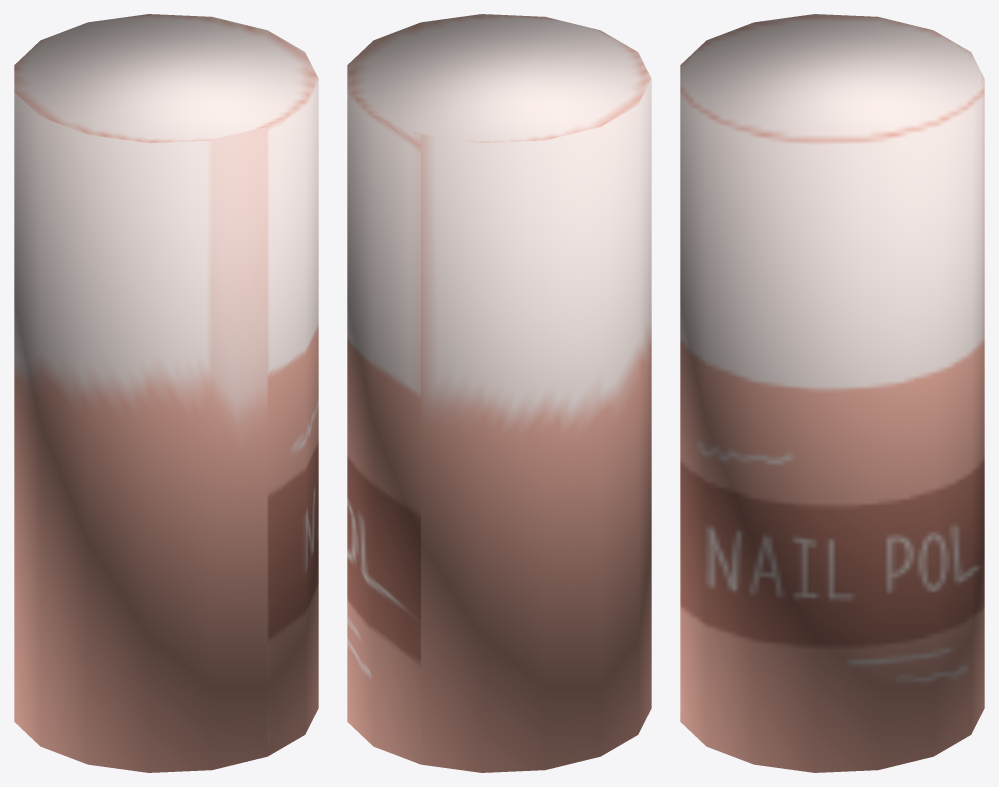
The model's file is nail_pol_green.glb.
3 views of the same model, side by side, from view 1: azimuth 30°, elevation 25°; view 2: azimuth 150°, elevation 25°; view 3: azimuth 270°, elevation 25° (orthographic).
Parts seen in each view (by area): view 1: Cylinder; view 2: Cylinder; view 3: Cylinder.
Part boxes in pixels (x1,y1,x2,y2): Cylinder: (14, 14, 318, 772); Cylinder: (347, 14, 651, 772); Cylinder: (680, 14, 984, 772).
Size of the model in its own units: 1.99 by 4.52 by 1.98.
1 material, 1 textured.
